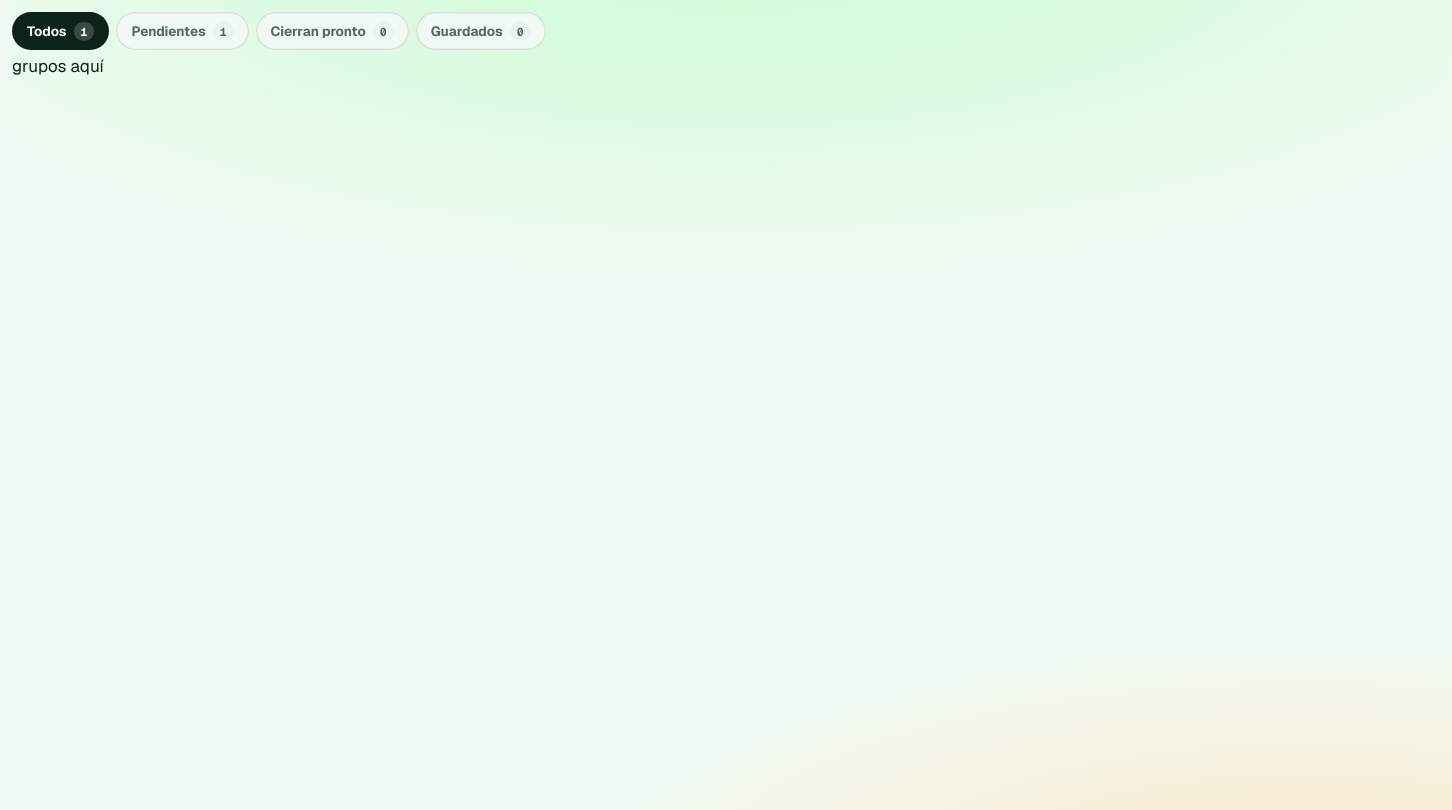
Test case: FilteredGroupsOrEmpty — Guardados filter with 0 saved predictions › shows EmptyState (not groups) when Guardados filter has count 0
The image size is (1452, 810).
Click the button "Guardados 0".
click(481, 31)  # box [416,12,546,50]
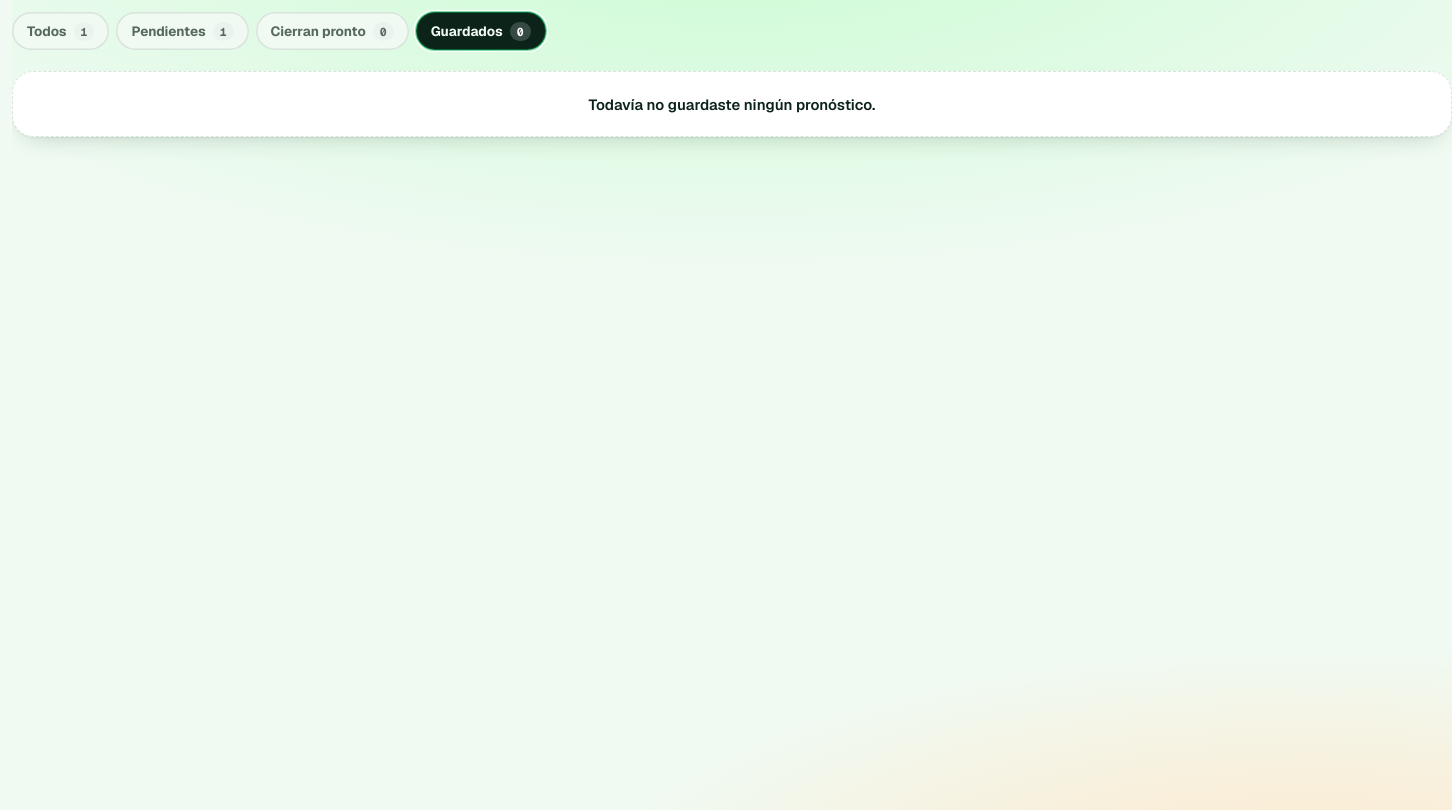
Check: the text "Todavía no guardaste ningún pronóstico." is shown, box [588,94,875,114]
